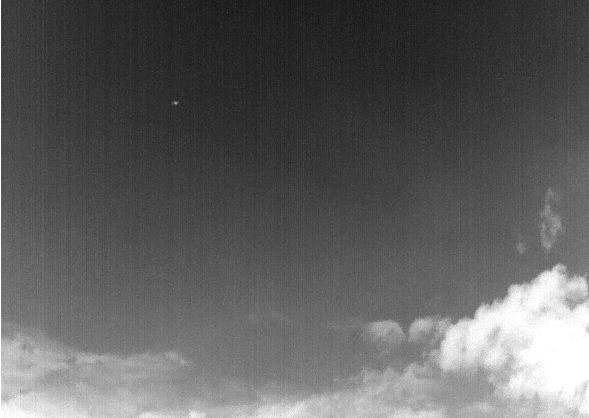dim target: (172, 100, 179, 106)
